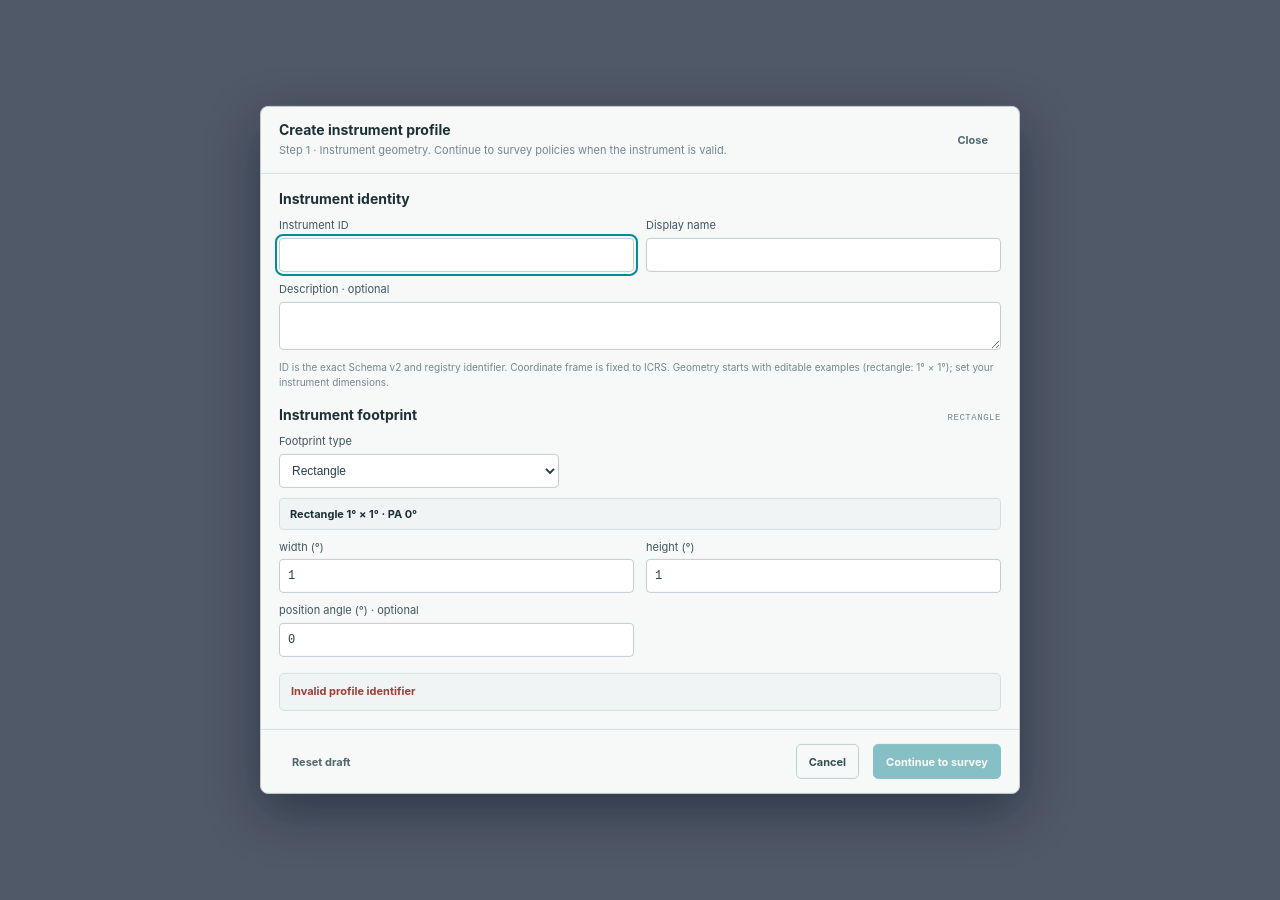
Test: Schema v2 instrument authoring draft › resets a draft back to a blank Schema v2 instrument without saving
In the field labelled "Instrument ID": x=456, y=255 [279,238,634,272], type "new-camera"
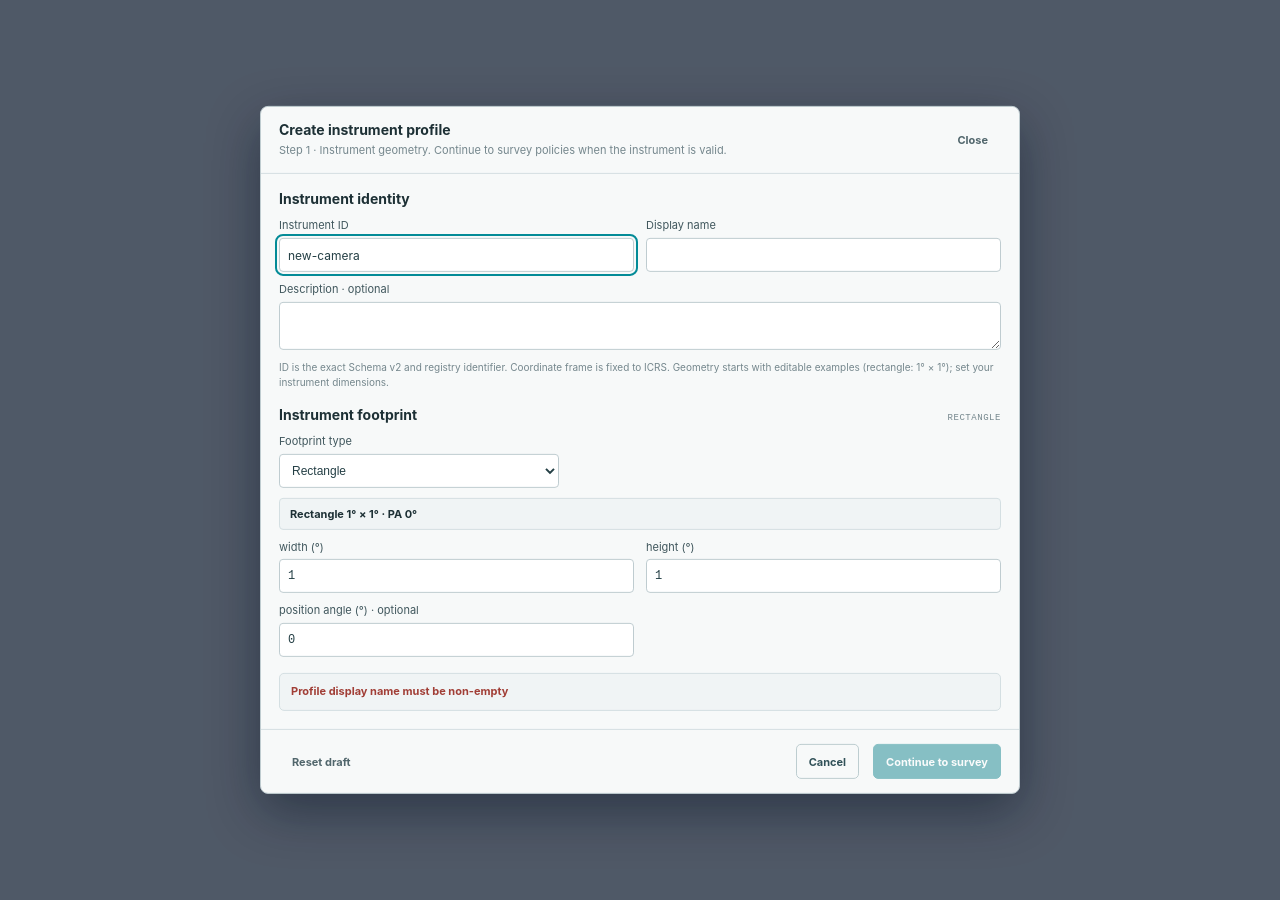
In the field labelled "Display name": x=824, y=255 [646,238,1001,272], type "New camera"
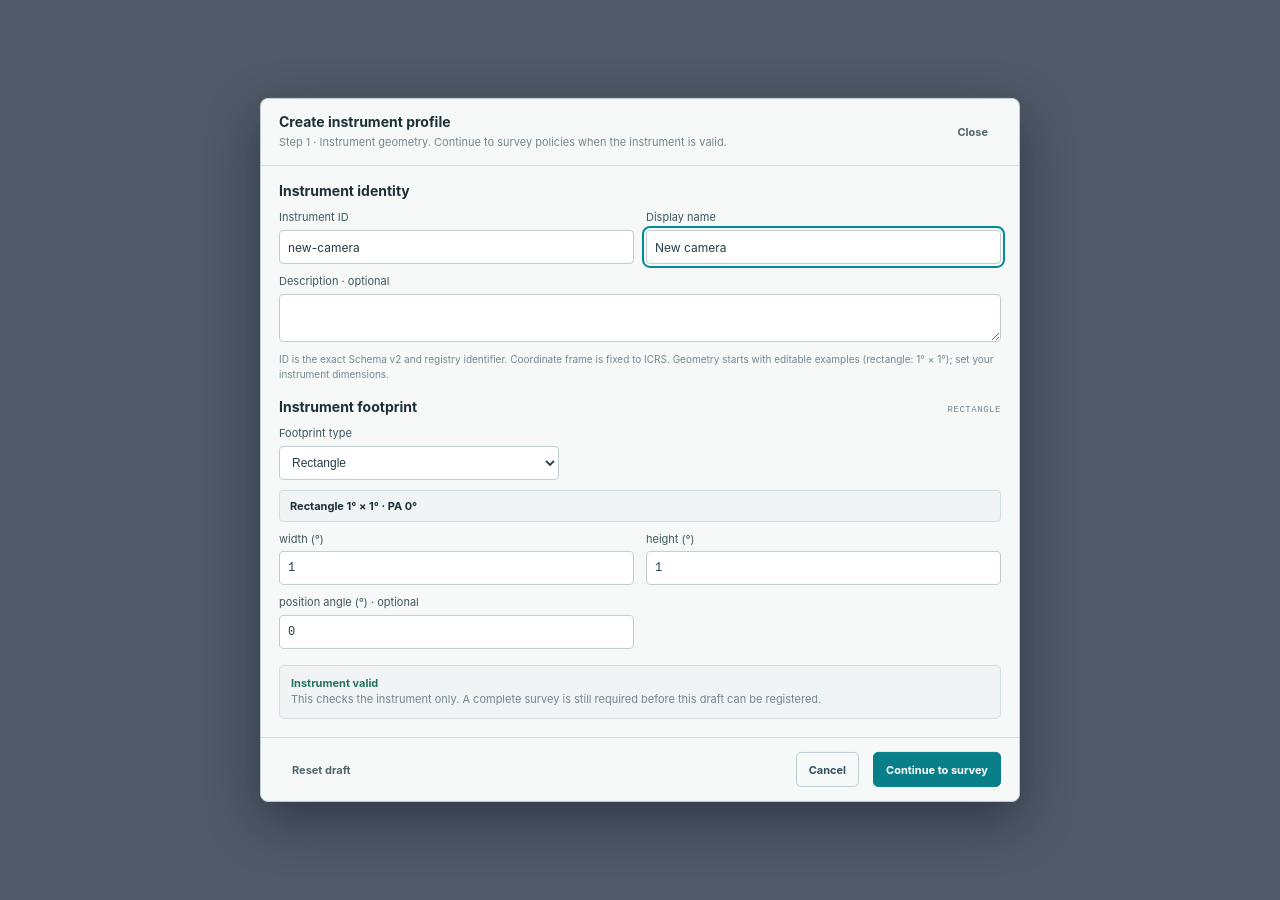
Select "Circle" in the dropdown labelled "Footprint type": x=419, y=462 [279,446,559,480]
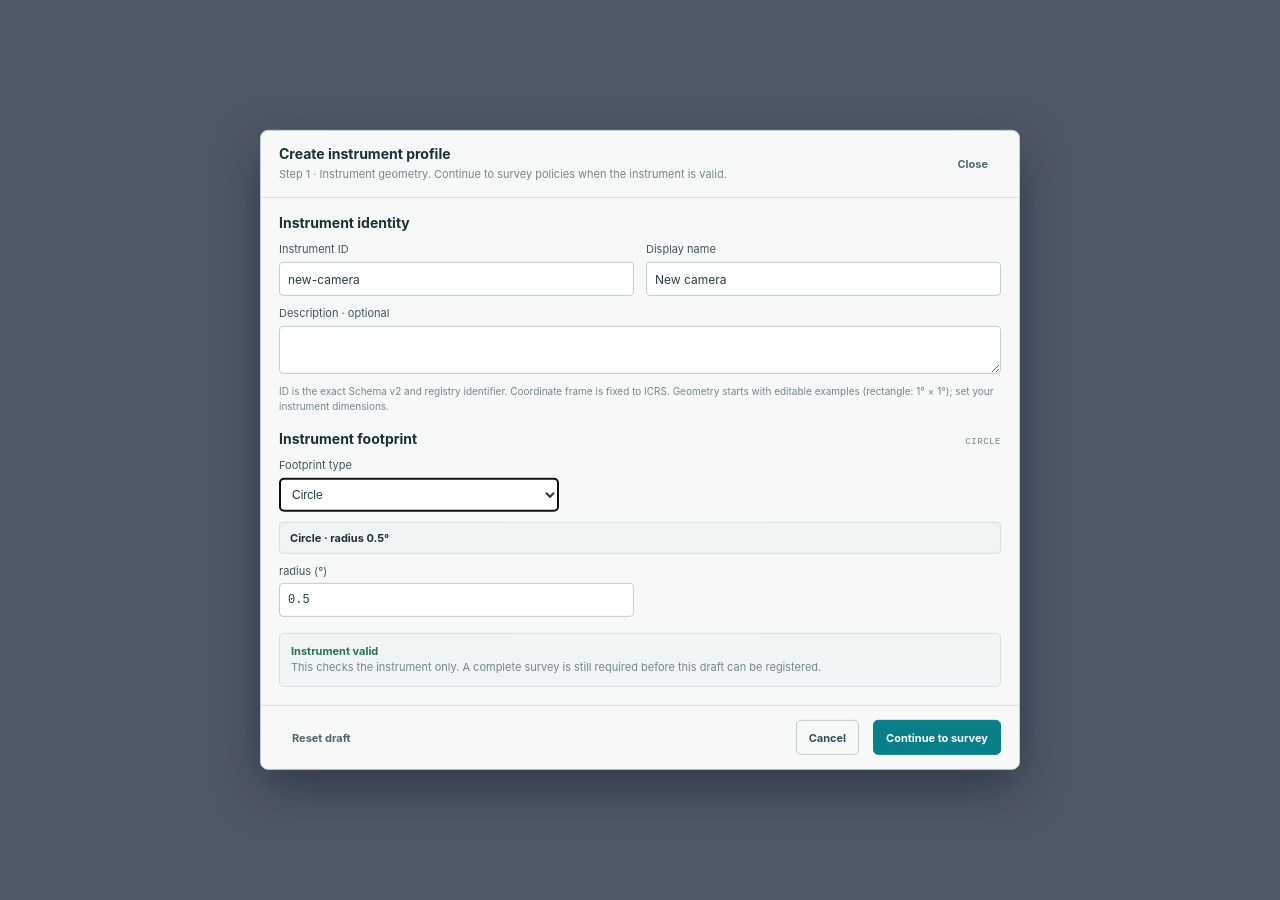
Clear the field labelled "radius (°)": x=456, y=600 [279,583,634,617]
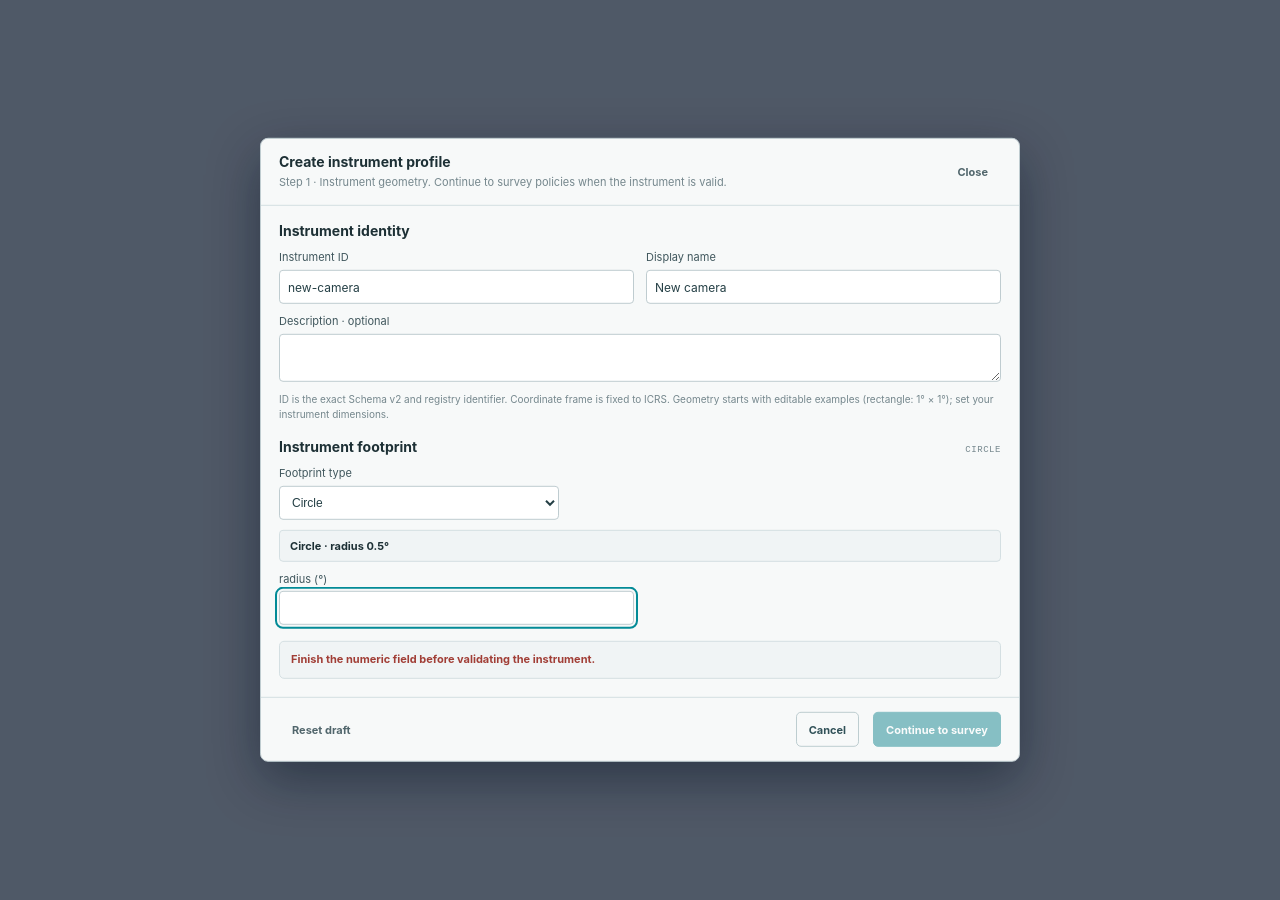
In the field labelled "radius (°)": x=456, y=608 [279,591,634,625], type "0.25"
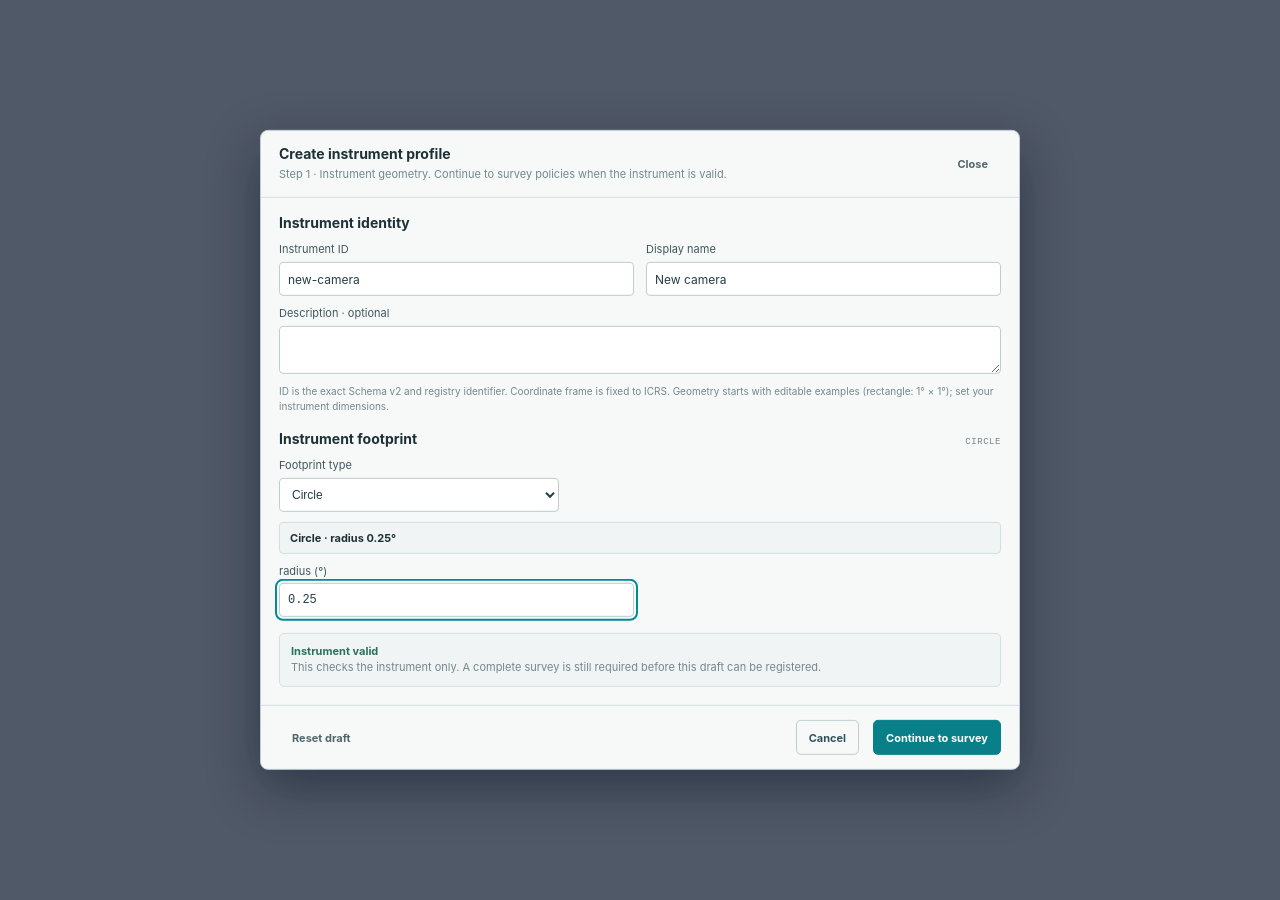
Expected: the message reads "Instrument valid", [291,644,378,658]
Click the button "Reset draft": x=321, y=738 [279,720,364,755]
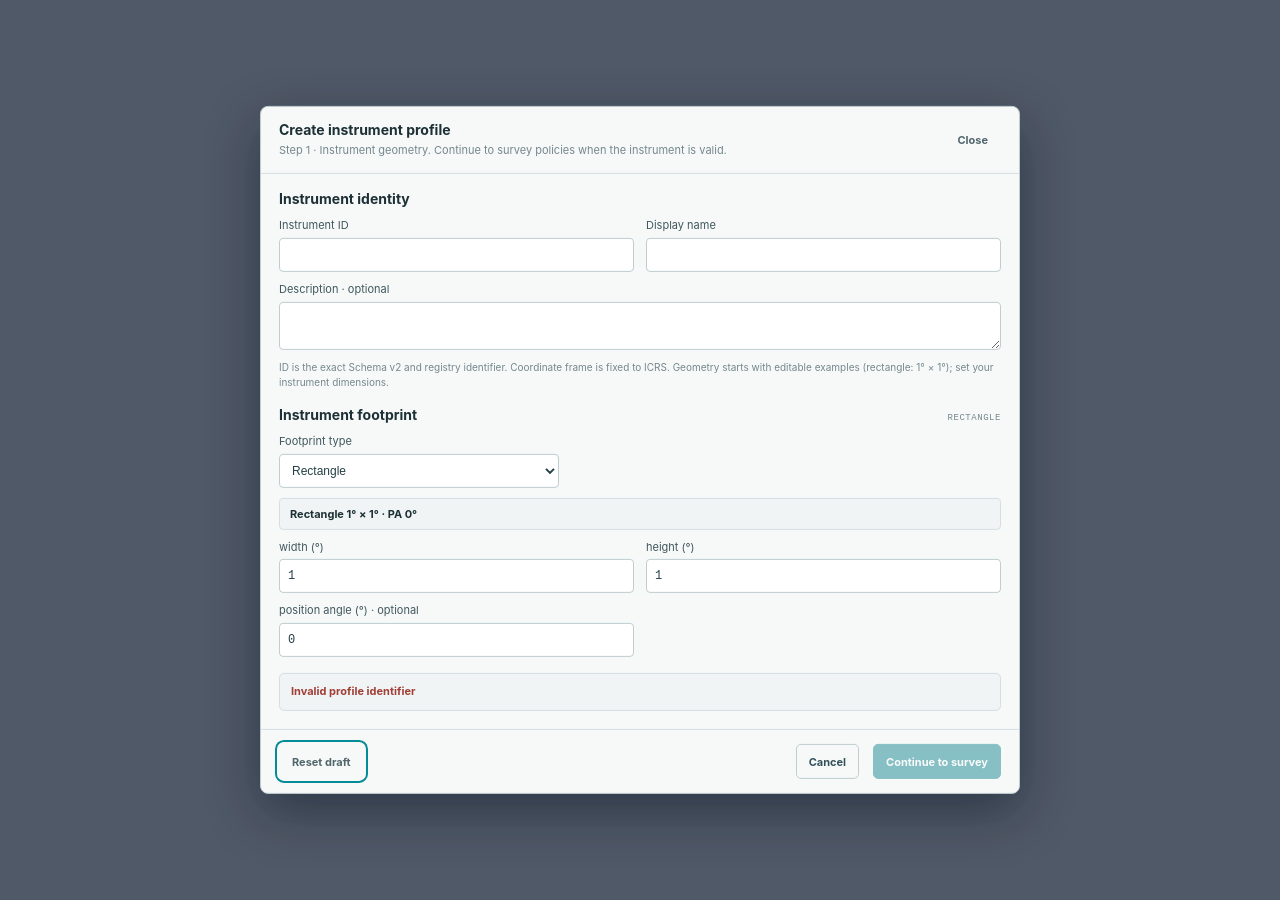
Expected: the field labelled "width (°)" holds "1", [279,559,634,593]
Expected: the message reads "Invalid profile identifier", [291,684,415,698]
